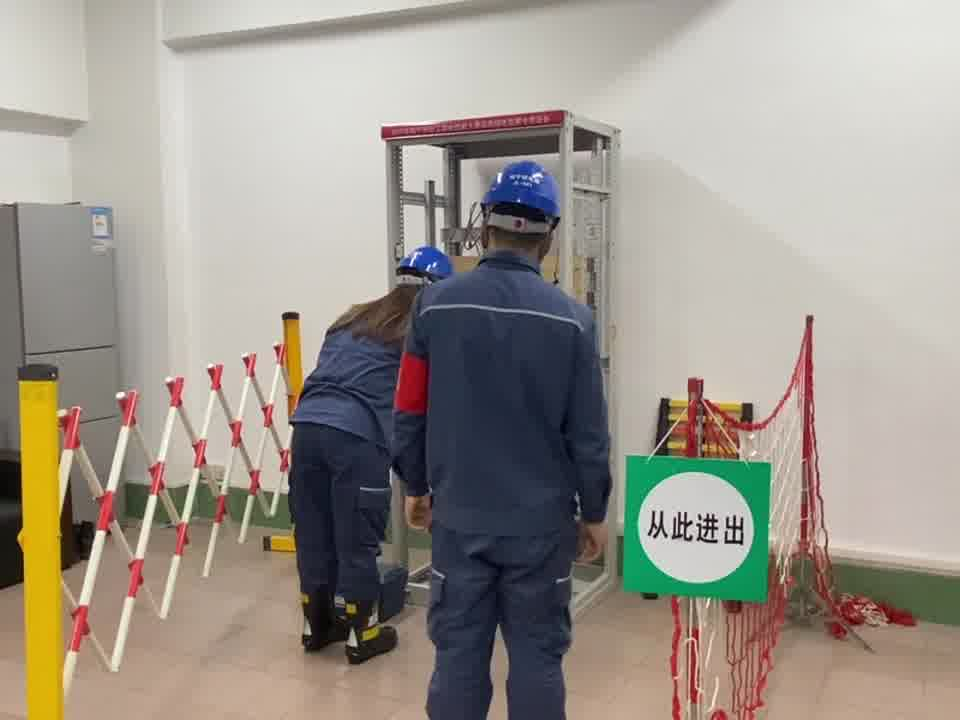badge: (394, 352, 430, 416)
downsuit: (421, 541, 577, 720), (290, 435, 392, 618)
hair: (327, 244, 454, 345)
halt: (475, 160, 566, 267)
hand: (576, 521, 607, 568), (401, 496, 433, 538)
intosign: (623, 456, 772, 603)
person: (397, 158, 615, 720), (283, 242, 462, 659)
shoe: (297, 584, 392, 660)
upsuit: (401, 262, 607, 533), (293, 297, 397, 428)
